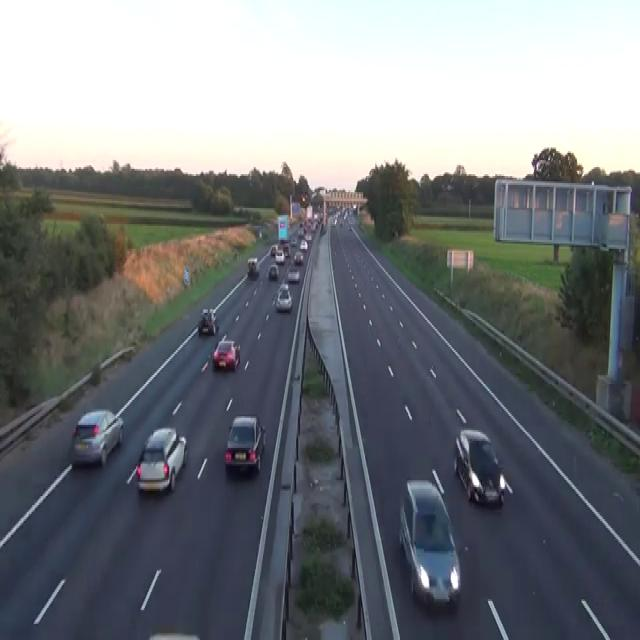Car: (398, 478, 461, 608), (453, 428, 505, 506), (134, 427, 187, 492), (70, 407, 124, 468), (224, 414, 265, 473), (212, 336, 240, 372), (197, 308, 218, 334), (275, 283, 292, 311), (148, 631, 200, 638), (246, 256, 259, 276), (287, 266, 299, 282), (267, 263, 278, 279), (275, 249, 285, 263), (293, 251, 303, 265), (299, 238, 307, 251), (320, 222, 327, 235), (283, 245, 290, 258), (304, 231, 312, 242), (270, 244, 277, 256), (300, 194, 307, 206), (446, 182, 454, 190), (297, 228, 304, 236), (313, 212, 320, 220), (290, 237, 296, 246), (352, 203, 357, 213), (333, 217, 337, 226), (259, 230, 262, 238)
Truck: (277, 213, 288, 240)
